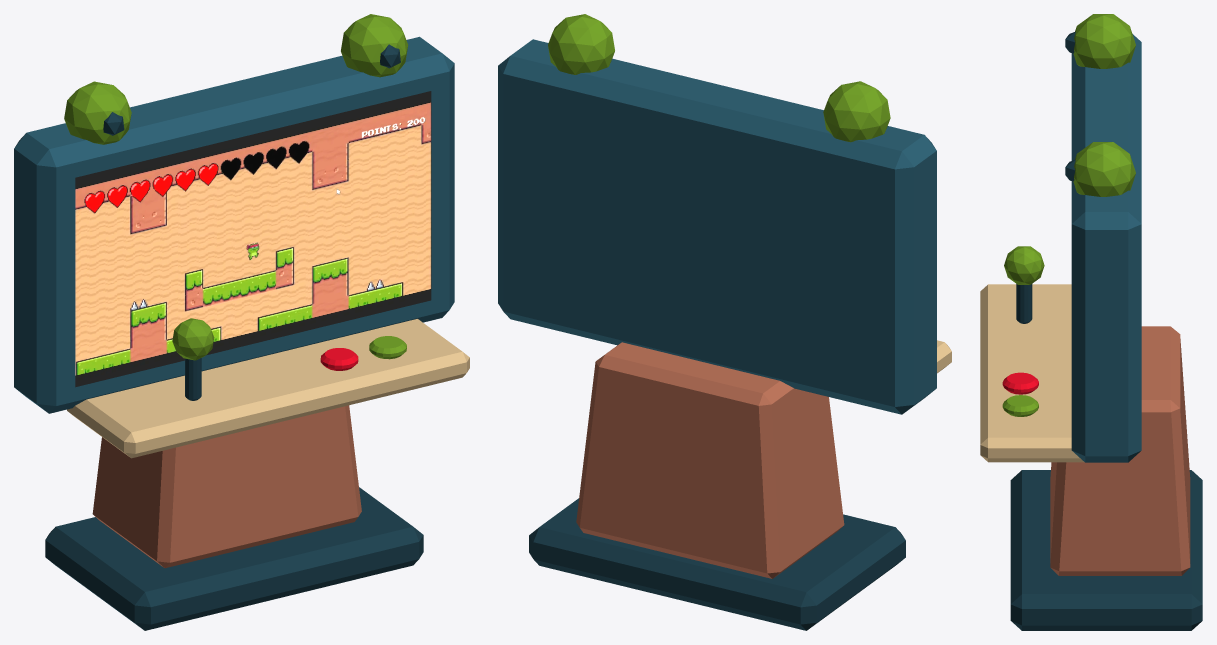
Rendered from froggie-display.glb.
3 renders of one model, left to right at view 1: azimuth 30°, elevation 25°; view 2: azimuth 150°, elevation 25°; view 3: azimuth 270°, elevation 25°, orthographic. The views are drawn at different scales.
Parts seen in each view (by area): view 1: GameplayScreen, ArcadeCabinet, ArcadePedestal, ControlDeck, ArcadeBase, FrogEyeLeft, FrogEyeRight, Joystick, ActionButtonA, ActionButtonB, JoystickStem; view 2: ArcadeCabinet, ArcadePedestal, ArcadeBase, FrogEyeLeft, FrogEyeRight; view 3: ArcadeCabinet, ArcadePedestal, ArcadeBase, ControlDeck, FrogEyeLeft, FrogEyeRight, Joystick, ActionButtonA, ActionButtonB, JoystickStem.
Part boxes in pixels (<box>): GameplayScreen: <box>75,91,431,387</box>; ArcadeCabinet: <box>14,36,454,413</box>; ArcadePedestal: <box>92,405,361,568</box>; ControlDeck: <box>67,319,469,458</box>; ArcadeBase: <box>45,487,423,630</box>; FrogEyeLeft: <box>64,81,131,144</box>; FrogEyeRight: <box>341,14,408,77</box>; Joystick: <box>172,318,214,360</box>; ActionButtonA: <box>320,348,358,370</box>; ActionButtonB: <box>369,336,406,359</box>; JoystickStem: <box>185,358,201,400</box>; ArcadeCabinet: <box>498,39,936,414</box>; ArcadePedestal: <box>576,342,844,578</box>; ArcadeBase: <box>529,498,905,630</box>; FrogEyeLeft: <box>823,81,890,142</box>; FrogEyeRight: <box>548,14,614,74</box>; ArcadeCabinet: <box>1071,34,1141,462</box>; ArcadePedestal: <box>1050,326,1190,575</box>; ArcadeBase: <box>1010,470,1202,630</box>; ControlDeck: <box>980,284,1084,462</box>; FrogEyeLeft: <box>1073,14,1135,68</box>; FrogEyeRight: <box>1073,142,1135,196</box>; Joystick: <box>1004,246,1044,284</box>; ActionButtonA: <box>1002,372,1038,394</box>; ActionButtonB: <box>1002,395,1038,416</box>; JoystickStem: <box>1016,284,1032,323</box>.
Bounding box in the file's own units: 4.05 × 4.78 × 1.97.
7 materials, 1 textured.
